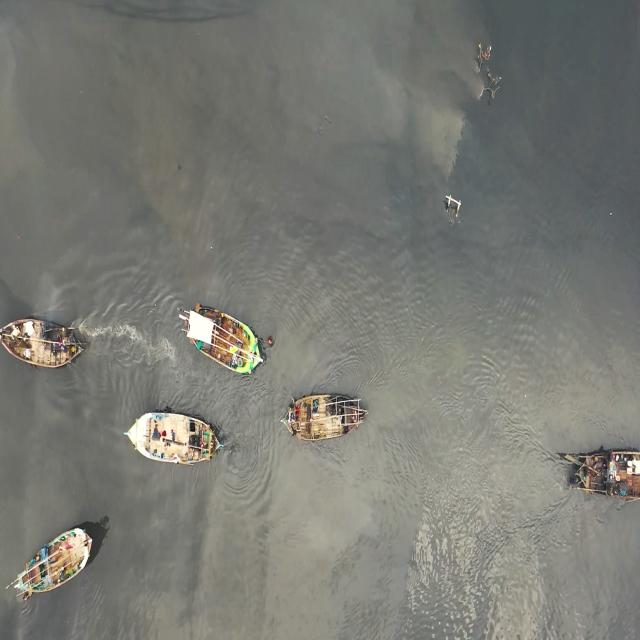ship: (5, 524, 94, 604), (188, 296, 264, 379), (0, 308, 92, 373), (123, 409, 223, 464), (281, 393, 371, 443), (560, 447, 640, 499)
